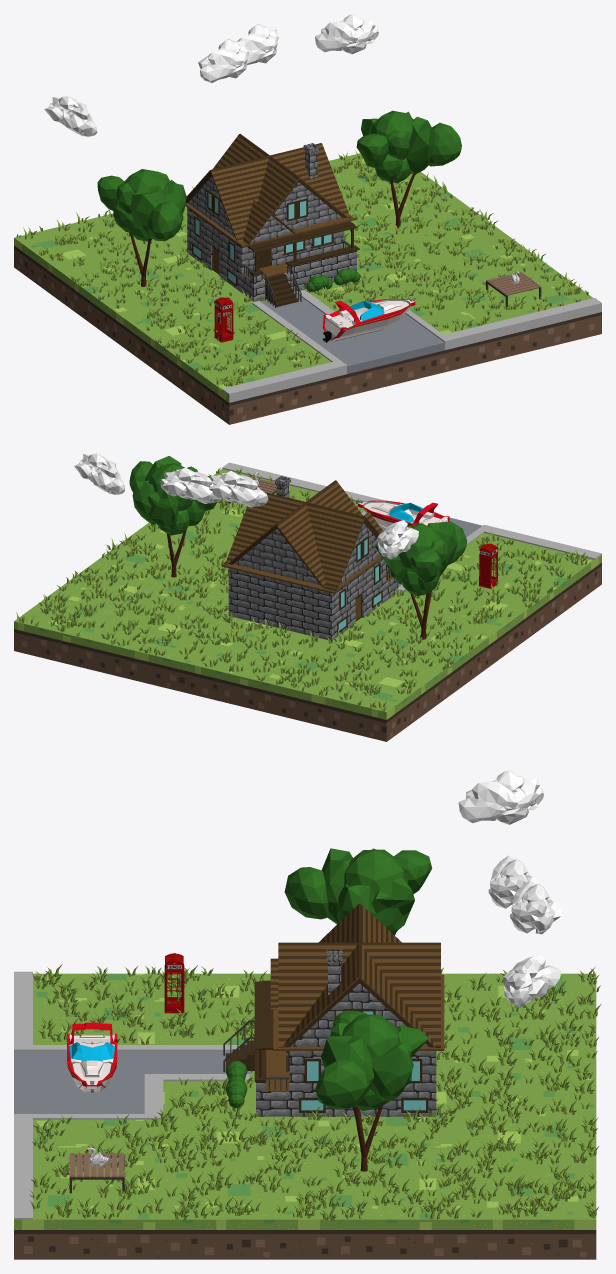
3 renders of one model, top to bottom at view 1: azimuth 30°, elevation 25°; view 2: azimuth 150°, elevation 25°; view 3: azimuth 270°, elevation 25°, orthographic. The views are drawn at different scales.
Visible parts, largest first — view 1: Cube.006, Cube.586, Circle.012_Grass_0.192, Cube.007, tree, tree.001, VEHICLES_BOAT, OBJRANDOM_PHONEBOOTH, Cube.009; view 2: Cube.006, Cube.586, Circle.012_Grass_0.192, Cube.007, tree.001, tree, VEHICLES_BOAT, OBJRANDOM_PHONEBOOTH; view 3: Cube.006, Circle.012_Grass_0.192, Cube.586, tree, Cube.007, tree.001, VEHICLES_BOAT, Cube.009, OBJRANDOM_PHONEBOOTH.
Boxes of the visible parts, x1,y1,x2,y2 form: Cube.006: [14, 153, 601, 424]; Cube.586: [185, 134, 359, 307]; Circle.012_Grass_0.192: [16, 150, 588, 386]; Cube.007: [44, 14, 378, 136]; tree: [356, 110, 461, 228]; tree.001: [97, 169, 186, 286]; VEHICLES_BOAT: [322, 298, 415, 342]; OBJRANDOM_PHONEBOOTH: [214, 297, 233, 342]; Cube.009: [486, 272, 541, 306]; Cube.006: [14, 462, 601, 741]; Cube.586: [221, 476, 398, 640]; Circle.012_Grass_0.192: [16, 468, 588, 711]; Cube.007: [74, 453, 418, 559]; tree.001: [375, 521, 467, 639]; tree: [129, 456, 216, 577]; VEHICLES_BOAT: [358, 500, 449, 527]; OBJRANDOM_PHONEBOOTH: [478, 543, 498, 588]; Cube.006: [14, 971, 596, 1259]; Circle.012_Grass_0.192: [29, 964, 601, 1220]; Cube.586: [223, 903, 444, 1116]; tree: [315, 1010, 428, 1171]; Cube.007: [458, 770, 561, 1007]; tree.001: [284, 848, 432, 935]; VEHICLES_BOAT: [67, 1022, 117, 1092]; Cube.009: [69, 1153, 124, 1193]; OBJRANDOM_PHONEBOOTH: [164, 953, 184, 1013].
Size of the model in its own units: 4071 by 2198 by 4040.
36 materials, 5 textured.
